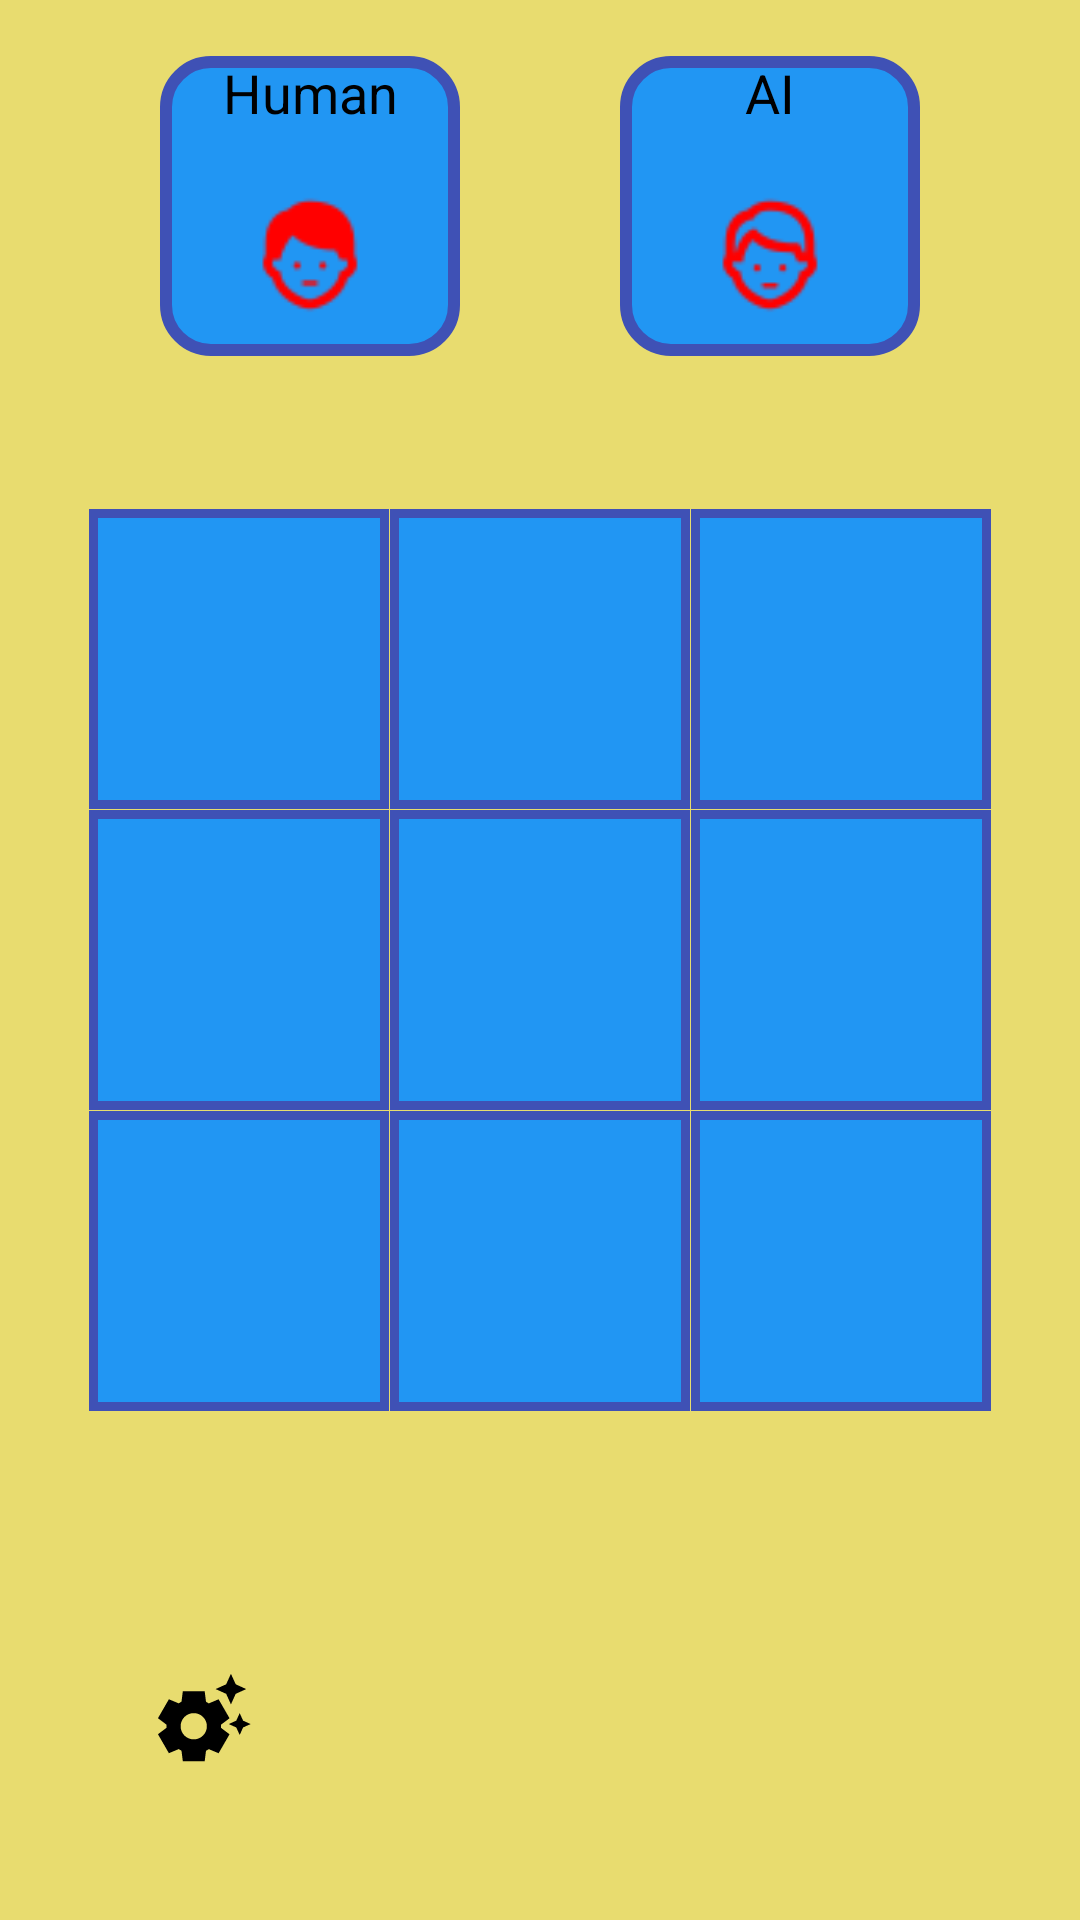

Screen size 1080x1920. Icon name, then its center in pixels as [x,y]:
settings suggest: [204,1718]
